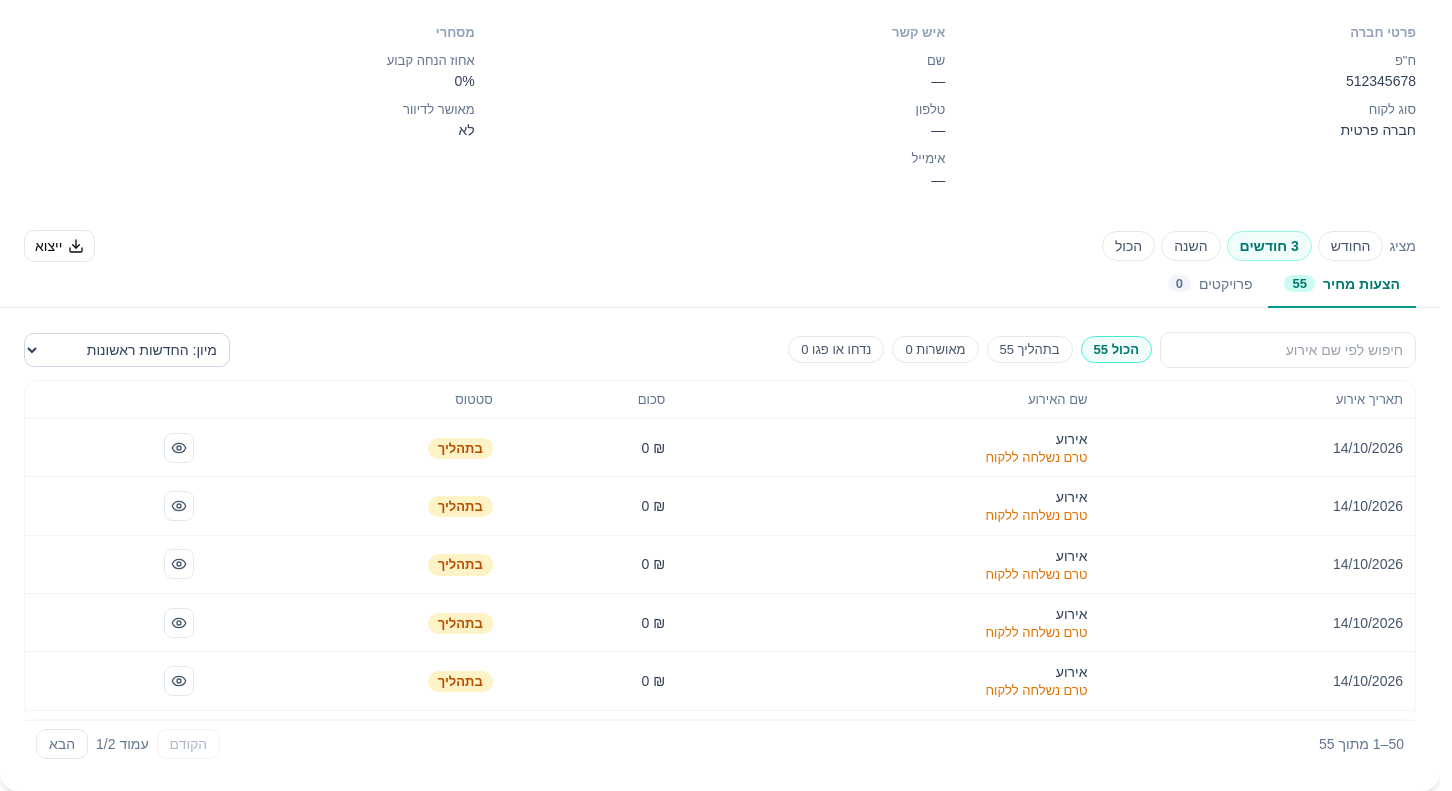
Test case: דפדוף — מעל 50 הצעות (הלקוח עם 262 הצעות בייצור) › מעבר ללשונית-פרויקטים וחזרה מאפס את עמוד-ההצעות ל-1
(page scrolled)
Click the button with test id "customer-quotes-pager-next": x=62, y=744 [36,729,88,759]
(page scrolled)
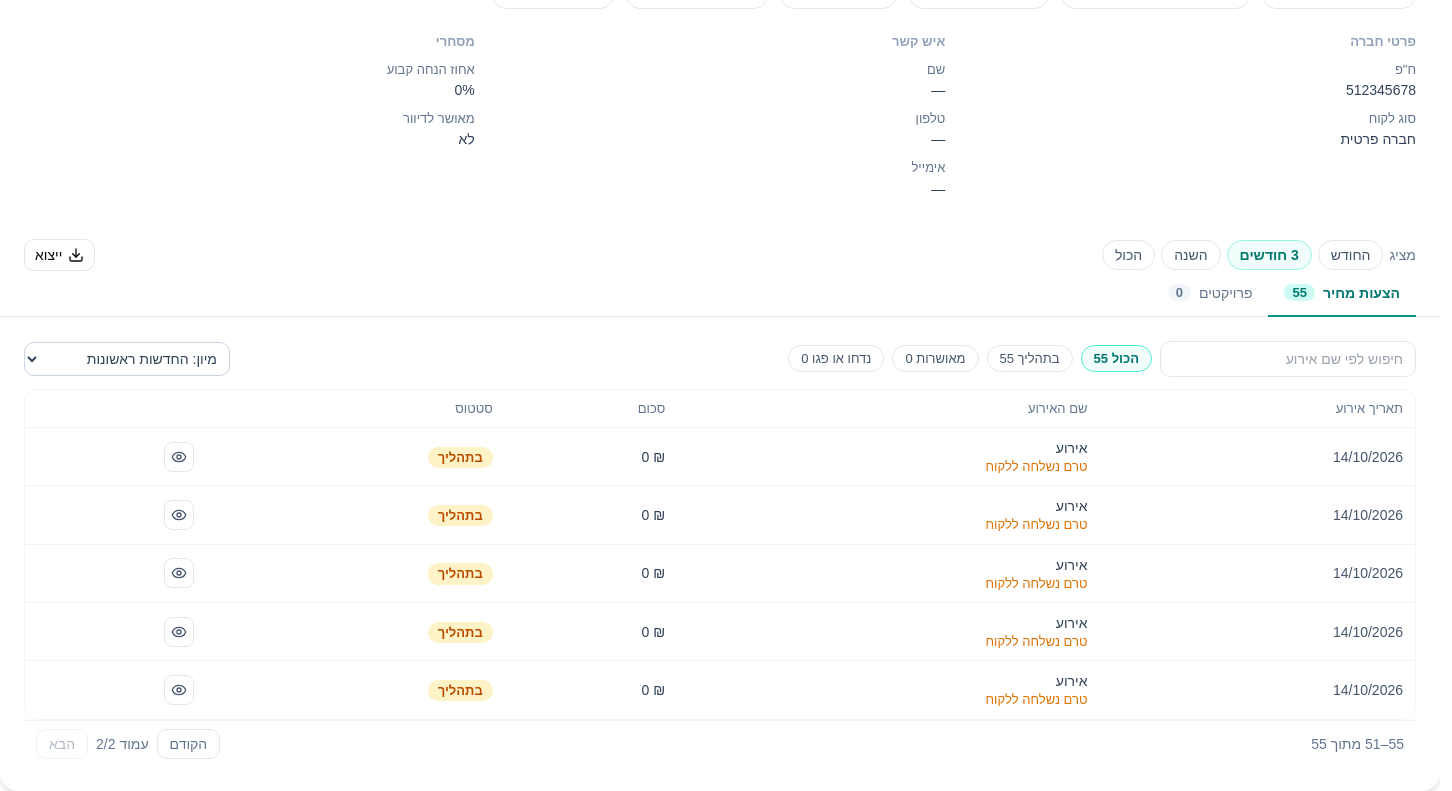
Expected: the element with test id "customer-quotes-pager-page" shows "2", [96,736,104,752]
Click the button with test id "customer-tab-projects": x=1210, y=294 [1152,271,1268,317]
(page scrolled)
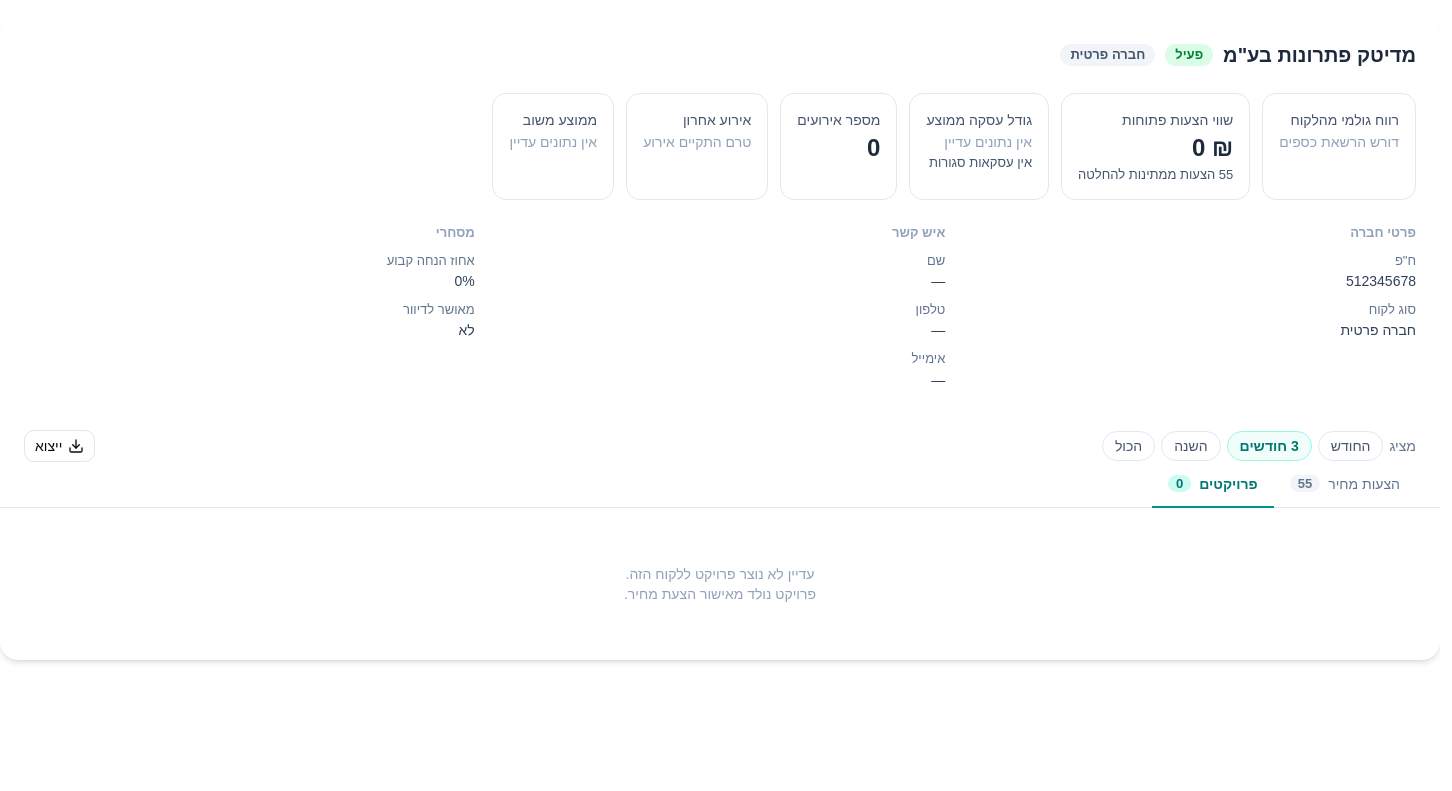
Click the button with test id "customer-tab-quotes": x=1345, y=485 [1274,462,1416,508]
(page scrolled)
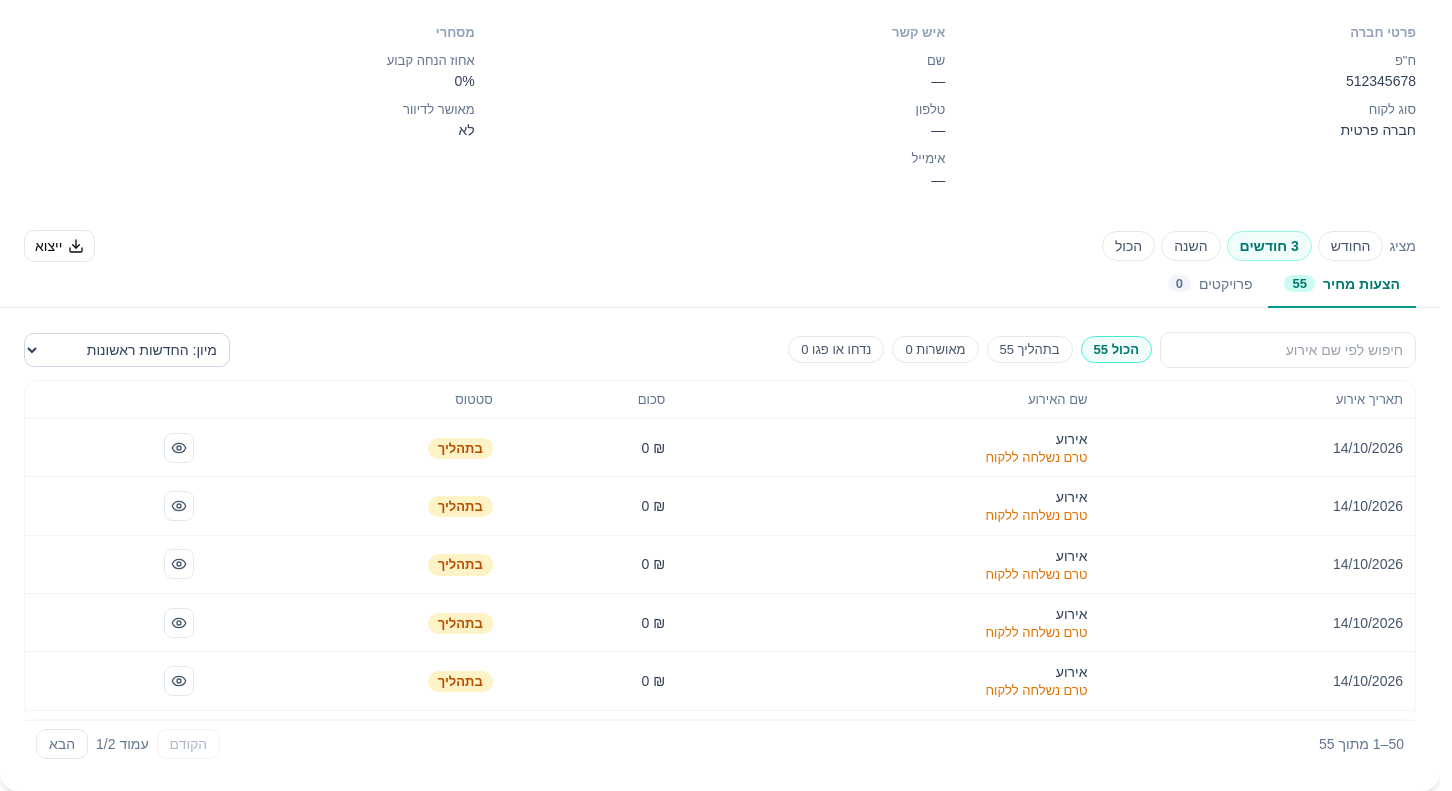
Now the element with test id "customer-quotes-pager-page" shows "1", box [96,736,104,752]
